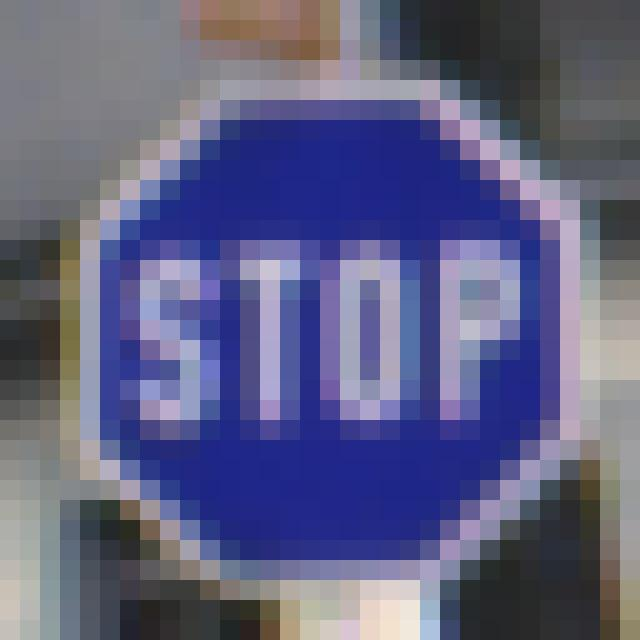STOP: (80, 110, 576, 566)
